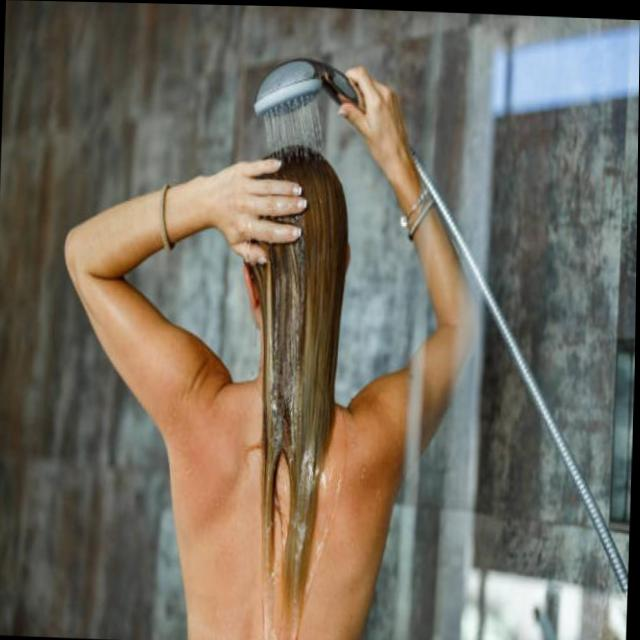no helmet: (223, 119, 363, 426)
